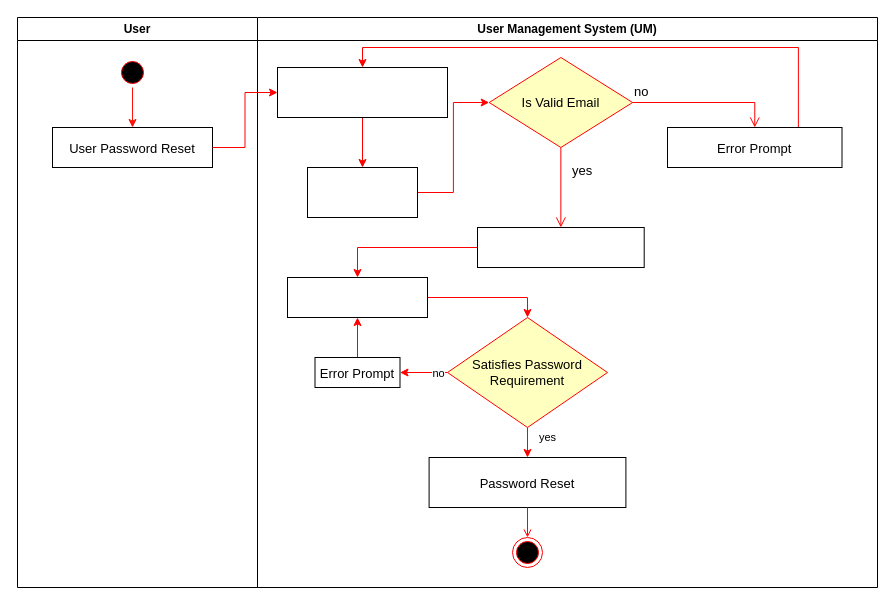
The diagram is 895 pixels wide and 605 high, and some of its shapes have lost their labels. Here are the shapes that lost their labels. From the top down, the centre of each, then its label:
(x=362, y=92): Redirect to Password Reset
(x=362, y=192): Input User Detail
(x=560, y=247): Send Reset Link to email
(x=357, y=297): Set New password
